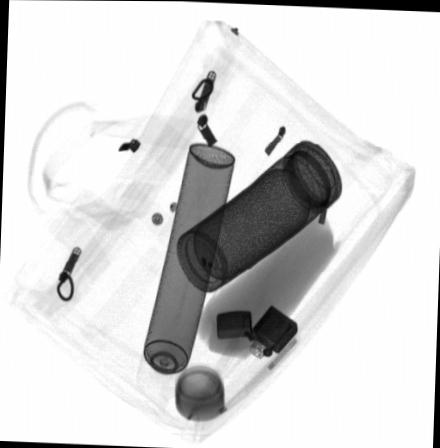Lighter: (215, 304, 297, 357)
Sprayer: (134, 143, 234, 397)
